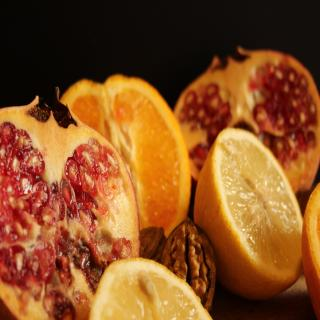Orange: (60, 74, 191, 237), (194, 126, 304, 299), (88, 257, 214, 320), (304, 181, 320, 314)
